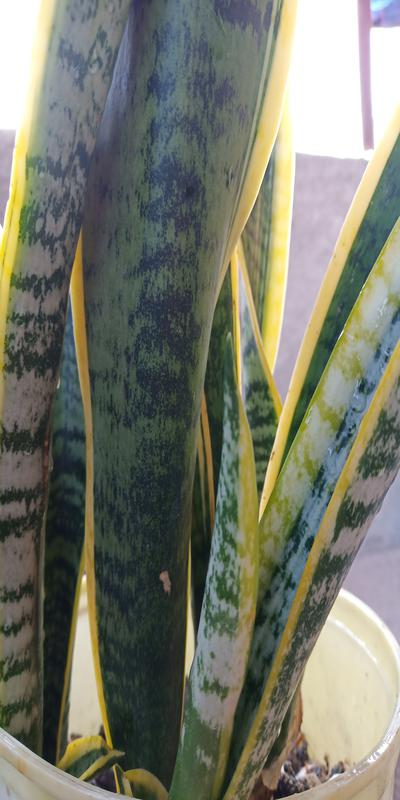Snake plant: (25, 1, 373, 718)
